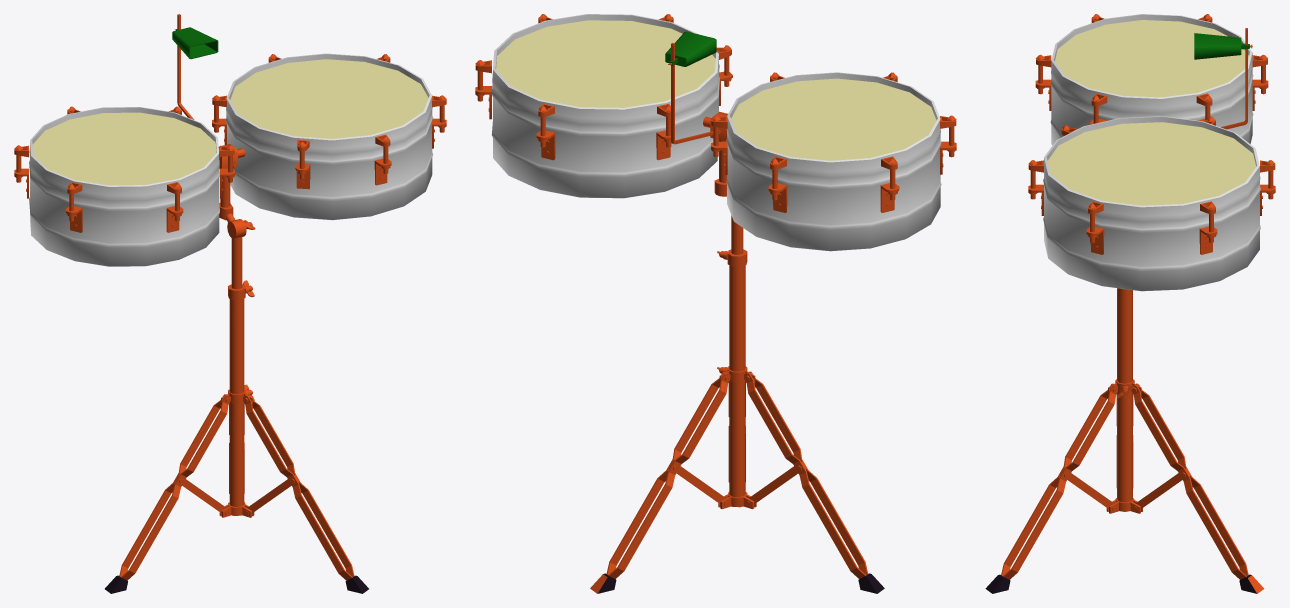
The model's file is Timbales_LP.fbx.
3 renders of one model, left to right at view 1: azimuth 30°, elevation 25°; view 2: azimuth 150°, elevation 25°; view 3: azimuth 270°, elevation 25°, orthographic. The views are drawn at different scales.
Visible parts, largest first — view 1: Timbales_Top_LP, Timbales_Bottom_LP; view 2: Timbales_Top_LP, Timbales_Bottom_LP; view 3: Timbales_Top_LP, Timbales_Bottom_LP.
Boxes of the visible parts, box(x1,y1,x2,y2) form: Timbales_Top_LP: box(14, 14, 446, 289); Timbales_Bottom_LP: box(105, 280, 368, 593); Timbales_Top_LP: box(475, 14, 956, 254); Timbales_Bottom_LP: box(590, 249, 884, 593); Timbales_Top_LP: box(1028, 14, 1275, 291); Timbales_Bottom_LP: box(985, 288, 1264, 593).
Size of the model in its own units: 8097 by 10265 by 5099.
